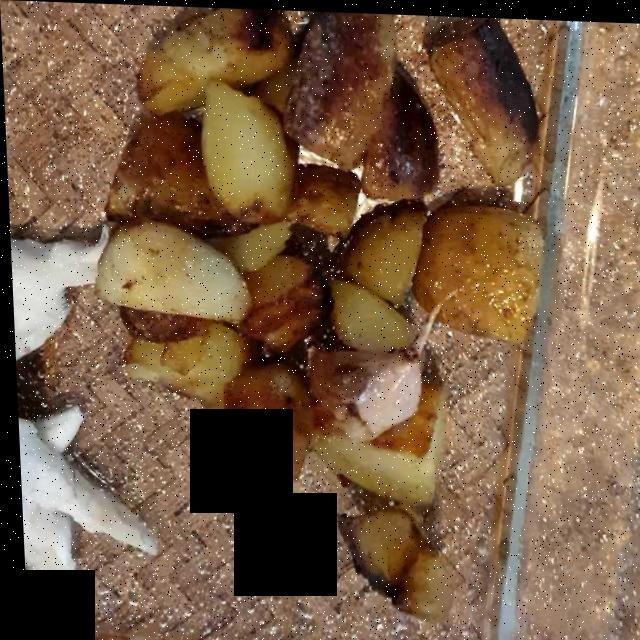potatoes: (38, 25, 532, 623)
